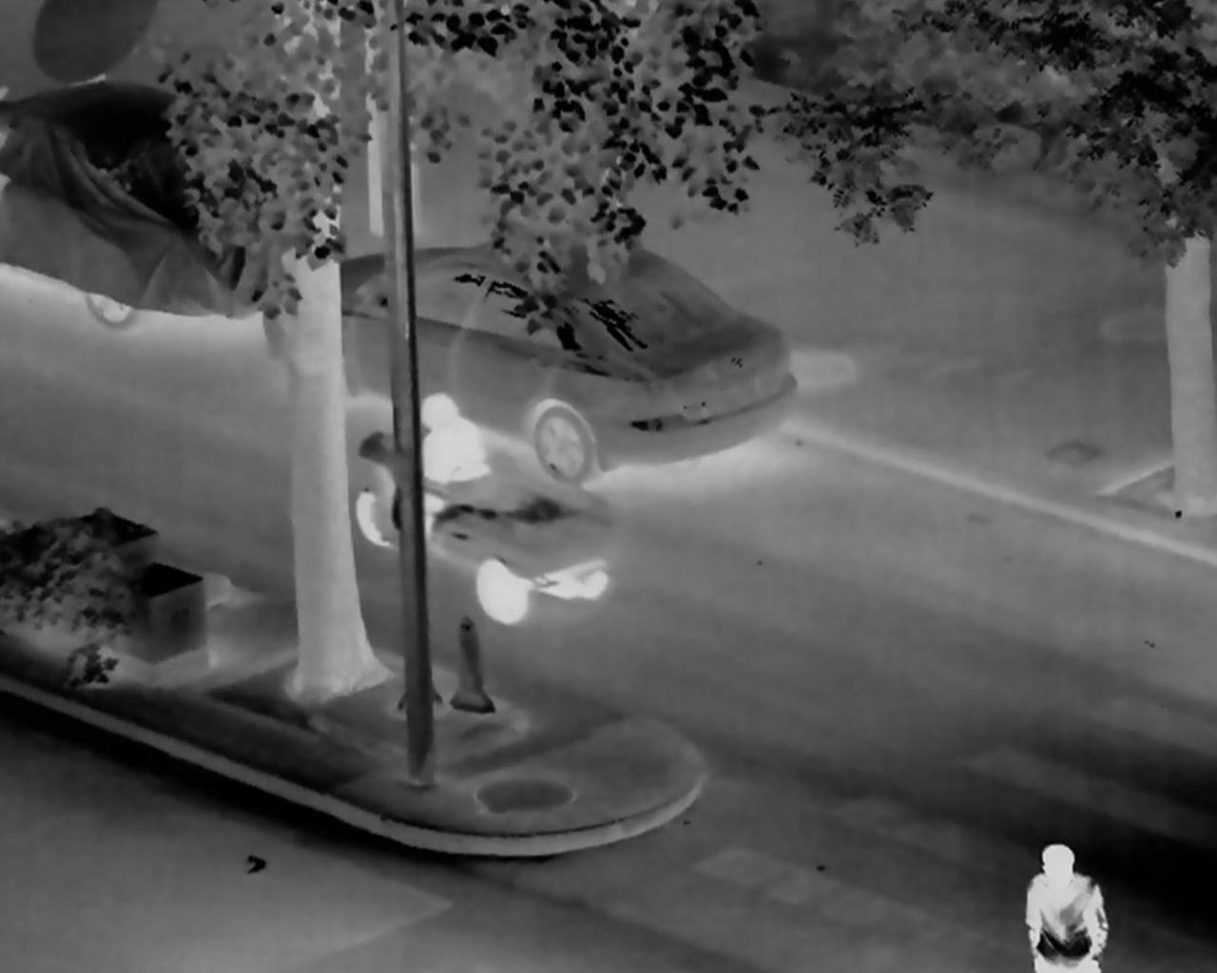person: (407, 391, 493, 536), (1024, 844, 1111, 973)
